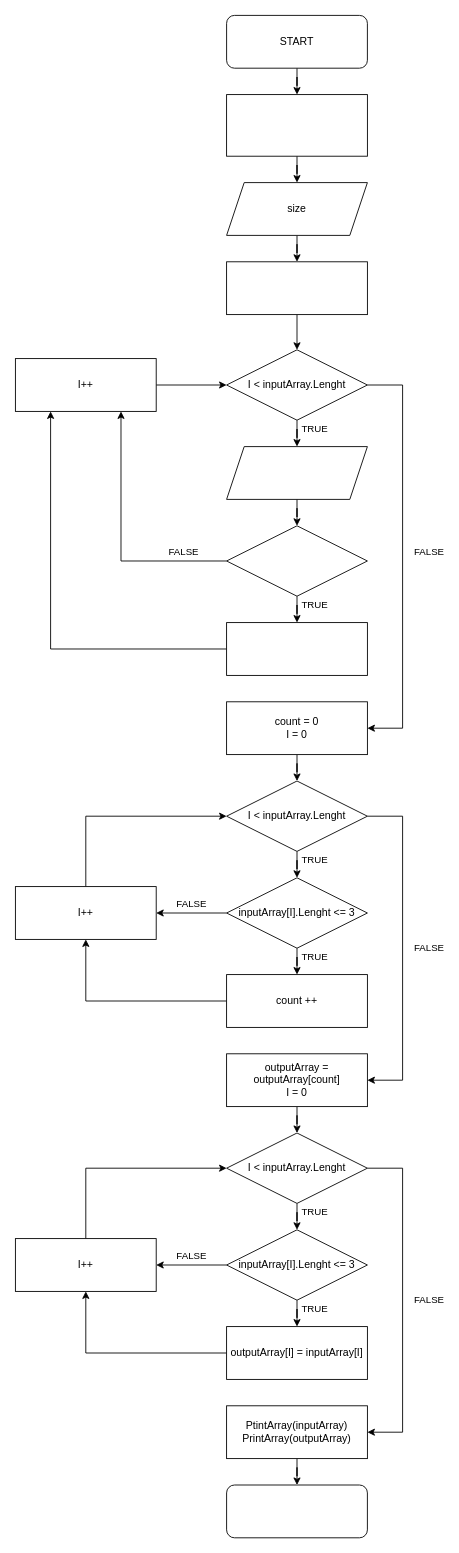
This 459x1553 diagram has some shape labels left out. Each missing label, with the centre of its shape:
FINISH: pixel 296 1511
inputArray = inputArray[size] I = 0: pixel 296 288
inputArray[I]: pixel 296 472
inputArray[I] = "": pixel 296 648
inputArray[I] == null: pixel 296 560
string[] inputArray string[] outputArray int size int count int i: pixel 296 125
